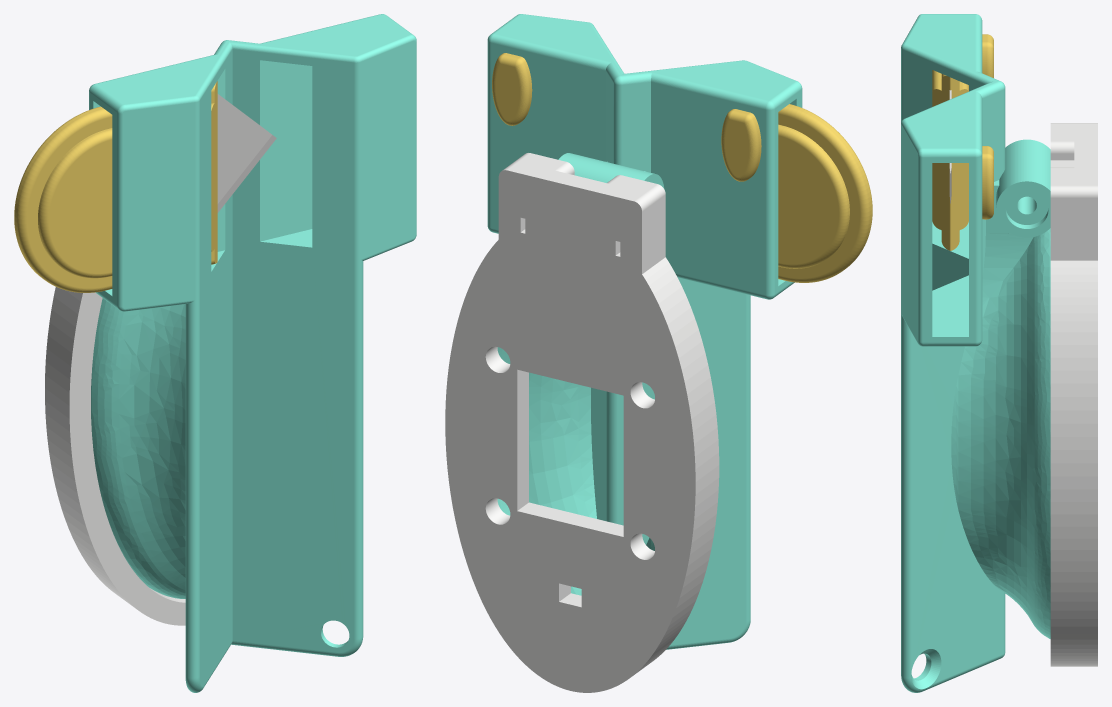
The model's file is ss-cutter2-end.gltf.
3 views of the same model, side by side, from view 1: azimuth 30°, elevation 25°; view 2: azimuth 150°, elevation 25°; view 3: azimuth 270°, elevation 25° (orthographic). The views are drawn at different scales.
Visible parts, largest first — view 1: node11; view 2: node11; view 3: node11.
Boxes of the visible parts, x1,y1,x2,y2 form: node11: (14, 14, 416, 692); node11: (445, 14, 872, 692); node11: (901, 14, 1097, 692).
Bounding box in the file's own units: 0.0903 × 0.135 × 0.0417.
